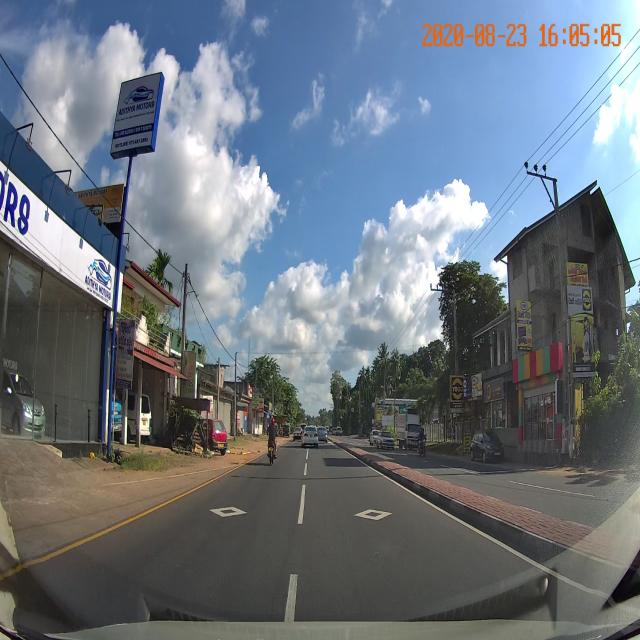Romb: (352, 508, 394, 521), (208, 505, 248, 517)
